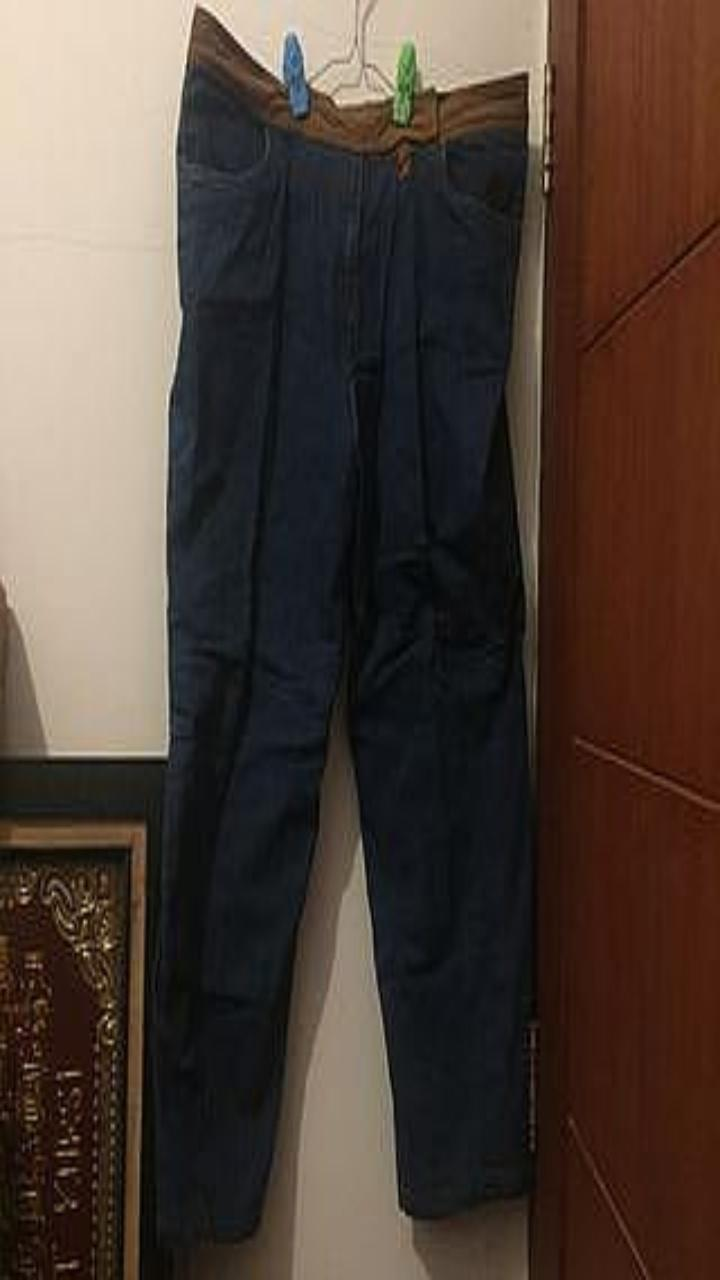Jeans: (153, 9, 532, 1240)
